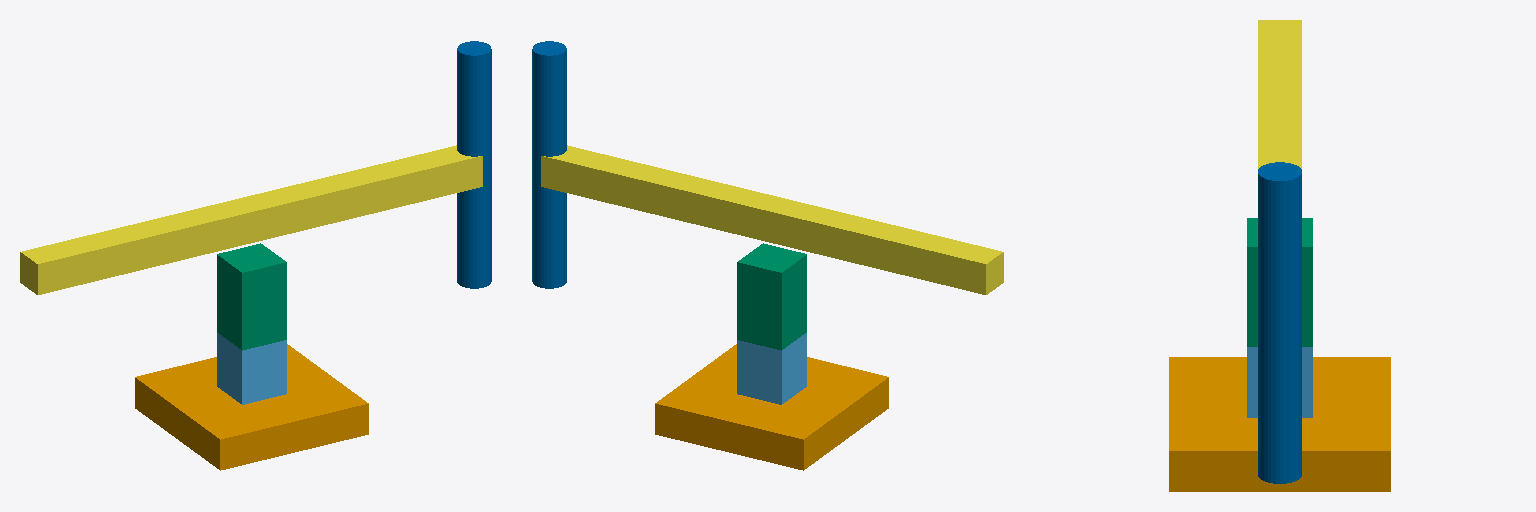
The robot description file, URDF, robot "custom_robot":
<?xml version="1.0"?>
<robot name="custom_robot">

  <!-- Base Link -->
  <link name="base_link">
    <visual>
      <geometry>
        <box size="0.1 0.1 0.02"/> <!-- Adjust dimensions as needed -->
      </geometry>
      <material name="grey"/>
    </visual>
  </link>

  <!-- First Servo Joint -->
  <joint name="joint1" type="continuous">
    <parent link="base_link"/>
    <child link="servo_link1"/>
    <origin xyz="0 0 0.02" rpy="0 0 0"/> <!-- Adjust the position and orientation as needed -->
    <axis xyz="0 0 1"/>
  </joint>

  <link name="servo_link1">
    <visual>
      <geometry>
        <box size="0.03 0.03 0.05"/> <!-- Adjust dimensions as needed -->
      </geometry>
      <material name="blue"/>
    </visual>
  </link>

  <!-- Second Servo Joint -->
  <joint name="joint2" type="continuous">
    <parent link="servo_link1"/>
    <child link="servo_link2"/>
    <origin xyz="0 0 0.05" rpy="0 0 0"/> <!-- Adjust the position and orientation as needed -->
    <axis xyz="0 1 0"/>
  </joint>

  <link name="servo_link2">
    <visual>
      <geometry>
        <box size="0.03 0.03 0.05"/> <!-- Adjust dimensions as needed -->
      </geometry>
      <material name="red"/>
    </visual>
  </link>

  <!-- Ruler Link -->
  <joint name="joint3" type="fixed">
    <parent link="servo_link2"/>
    <child link="ruler_link"/>
    <origin xyz="0 0 0.05" rpy="0 0 0"/> <!-- Adjust the position and orientation as needed -->
  </joint>

  <link name="ruler_link">
    <visual>
      <geometry>
        <box size="0.3 0.02 0.02"/> <!-- Adjust dimensions as needed -->
      </geometry>
      <material name="transparent"/>
    </visual>
  </link>

  <!-- Pen Link -->
  <joint name="joint4" type="fixed">
    <parent link="ruler_link"/>
    <child link="pen_link"/>
    <origin xyz="0.15 0 0" rpy="0 0 0"/> <!-- Adjust the position and orientation as needed -->
  </joint>

  <link name="pen_link">
    <visual>
      <geometry>
        <cylinder radius="0.01" length="0.15"/> <!-- Adjust dimensions as needed -->
      </geometry>
      <material name="white"/>
    </visual>
  </link>

</robot>

--- Facts derived from the render (not from the file) ---
3 views of the same robot in one strip: view 1: azimuth 30°, elevation 25°; view 2: azimuth 150°, elevation 25°; view 3: azimuth 270°, elevation 25° (orthographic).
Model custom_robot with 5 links and 4 joints (2 continuous, 2 fixed), rooted at base_link, posed all joints at 0.
Links seen in each view (by area): view 1: ruler_link, base_link, pen_link, servo_link2, servo_link1; view 2: ruler_link, base_link, pen_link, servo_link2, servo_link1; view 3: base_link, pen_link, ruler_link, servo_link2, servo_link1.
Link boxes in pixels (left/top/right/bottom): ruler_link: left=20, top=145, right=482, bottom=294; base_link: left=135, top=344, right=368, bottom=470; pen_link: left=457, top=41, right=491, bottom=288; servo_link2: left=217, top=243, right=286, bottom=350; servo_link1: left=217, top=333, right=286, bottom=404; ruler_link: left=541, top=145, right=1003, bottom=294; base_link: left=655, top=344, right=888, bottom=470; pen_link: left=532, top=41, right=566, bottom=288; servo_link2: left=737, top=243, right=806, bottom=350; servo_link1: left=737, top=333, right=806, bottom=404; base_link: left=1169, top=357, right=1390, bottom=491; pen_link: left=1258, top=162, right=1301, bottom=483; ruler_link: left=1258, top=20, right=1301, bottom=168; servo_link2: left=1247, top=218, right=1312, bottom=346; servo_link1: left=1247, top=347, right=1312, bottom=417.
Bounding box of the posed robot: 0.31 × 0.1 × 0.205 m (x, y, z).
Geometry: primitives only (box / cylinder / sphere), no mesh files.
